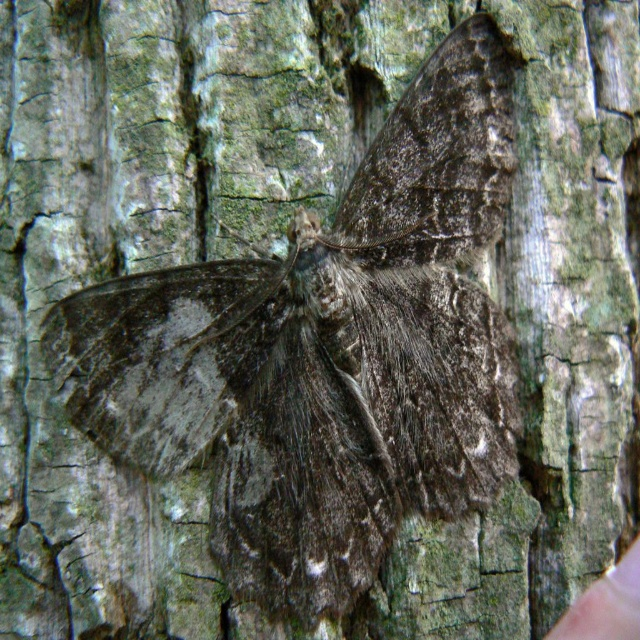Butterfly: (38, 10, 525, 630)
